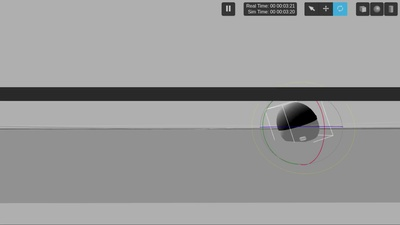mira_robot: (276, 102, 320, 142)
